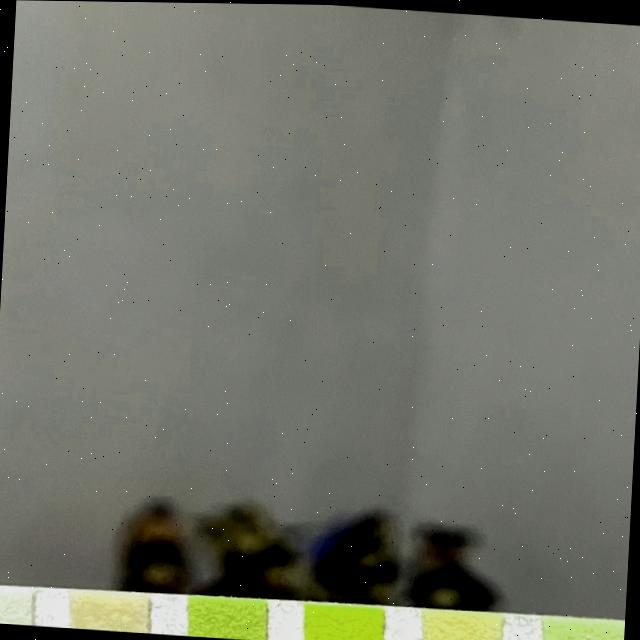Bilirubin: (0, 586, 34, 625)
Blood: (305, 603, 385, 640)
Ketone: (72, 590, 148, 633)
Protein: (543, 613, 624, 640)
SpGravity: (188, 596, 268, 640)
pH: (423, 608, 503, 640)
